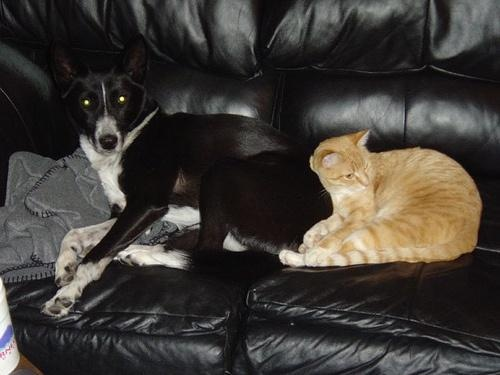cat: (281, 131, 484, 269)
dog: (42, 32, 334, 318)
sofa: (1, 1, 500, 374)
